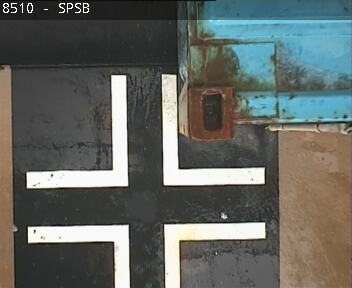groundmarker_1: (27, 74, 264, 190), (29, 221, 265, 288)
